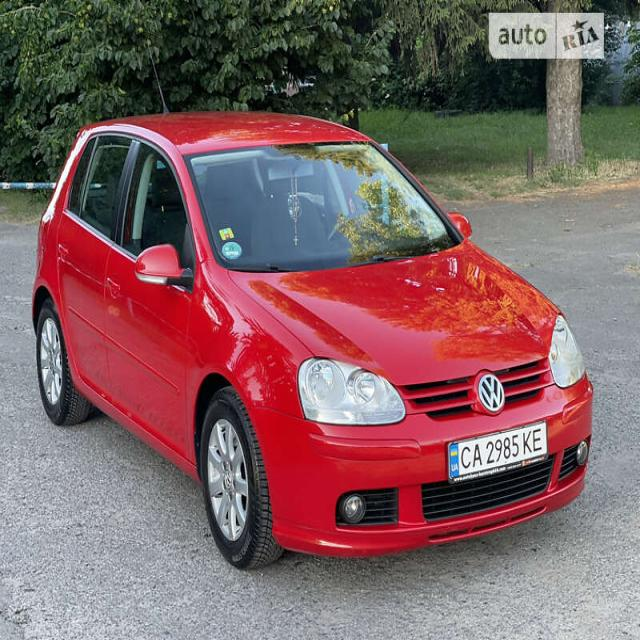plate: (439, 419, 558, 481)
